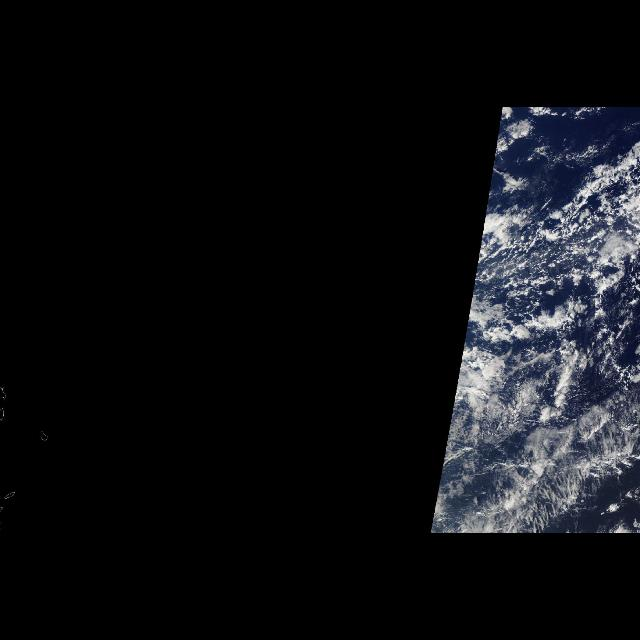Fish: (426, 388, 640, 534)
